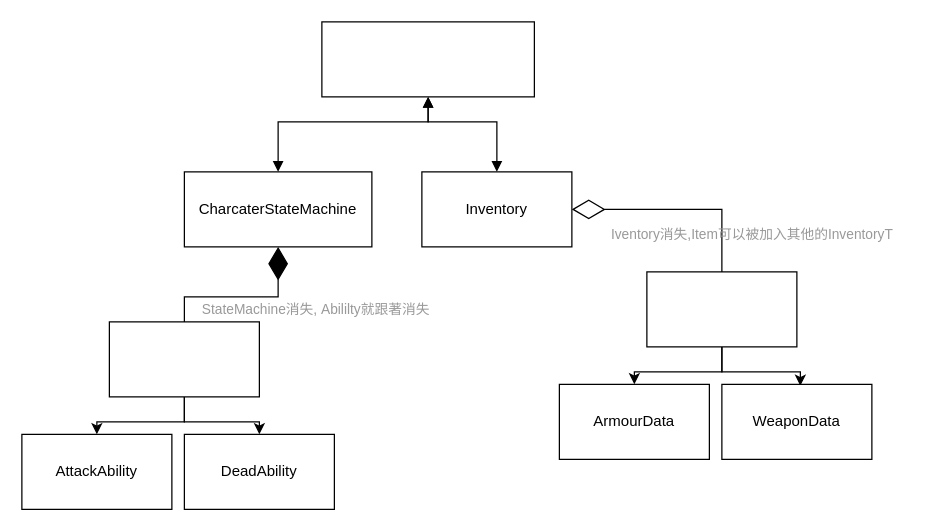
Image size: 936x531. Some labels were removed from this diagram. Each missing label, with the box of its shape:
Ability: (108, 321, 259, 397)
ABrunnhildeCharacter: (321, 21, 534, 97)
ItemData: (646, 271, 797, 347)
